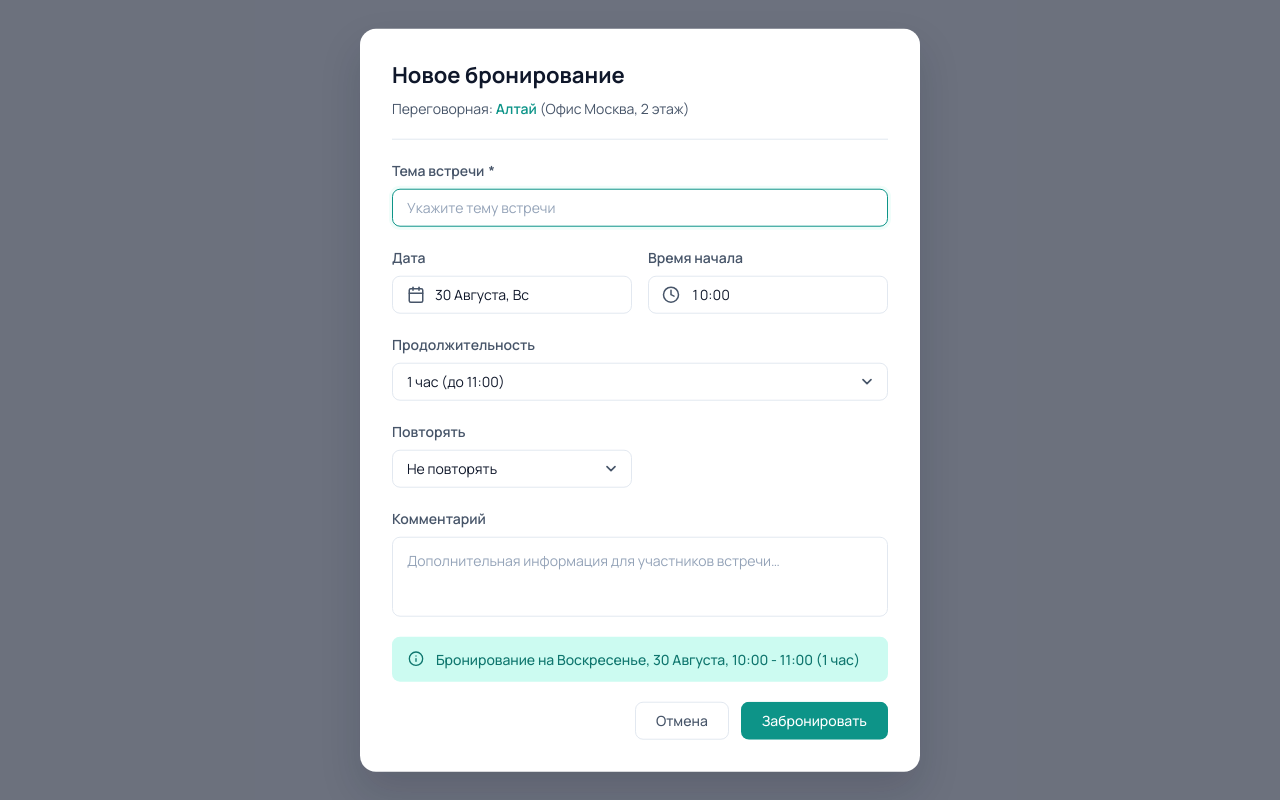
Scenario: CreateBookingDialog › без темы встречи не отправляет и показывает ошибку
The width and height of the screenshot is (1280, 800).
Step 1. Click the button "Забронировать" → (814, 720), box x1=741 y1=701 x2=888 y2=739
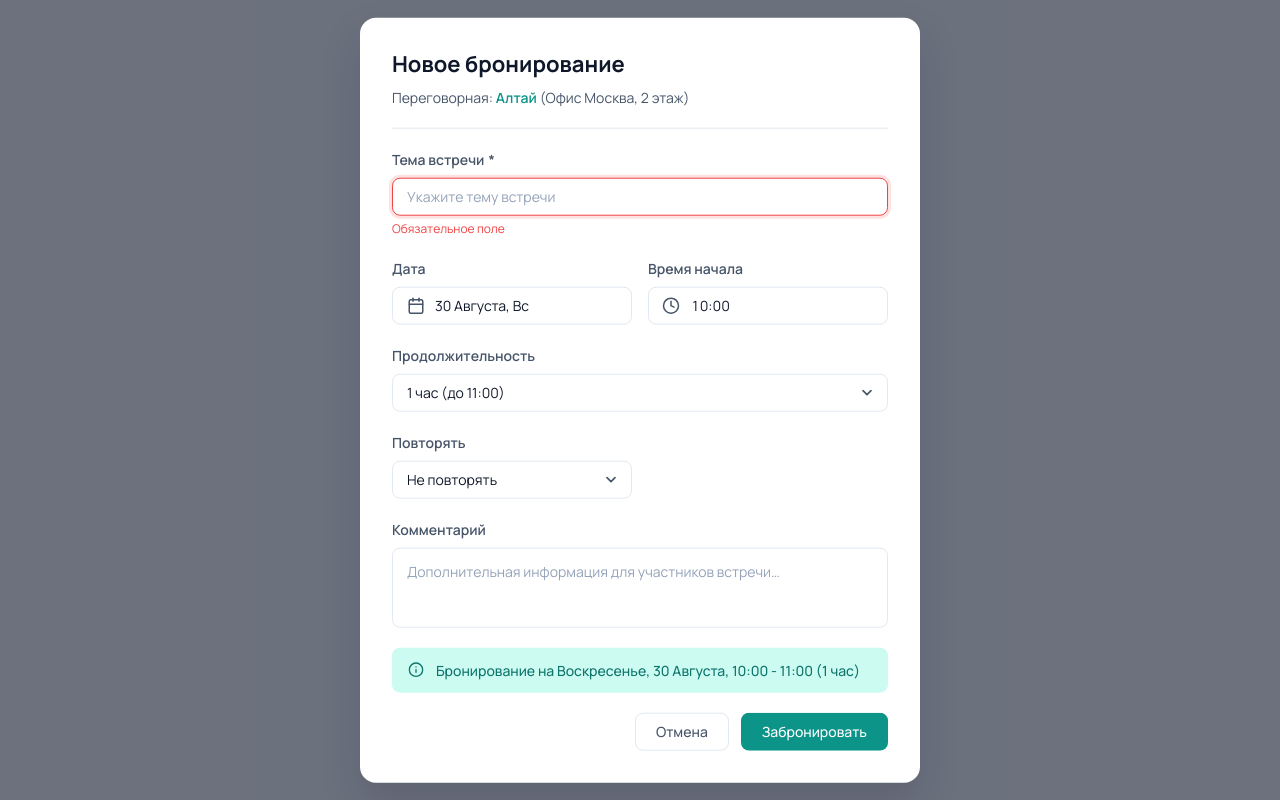
Expected: the text "Обязательное поле" is shown, x1=392 y1=219 x2=505 y2=236
